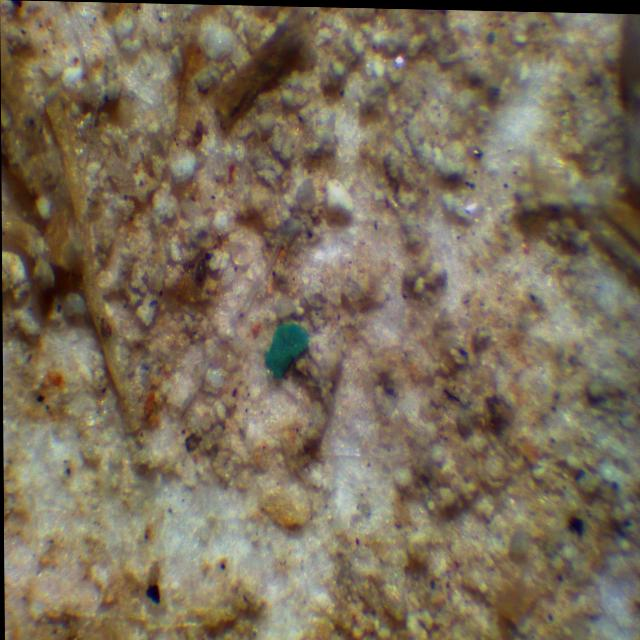microplastic: (263, 320, 307, 377)
